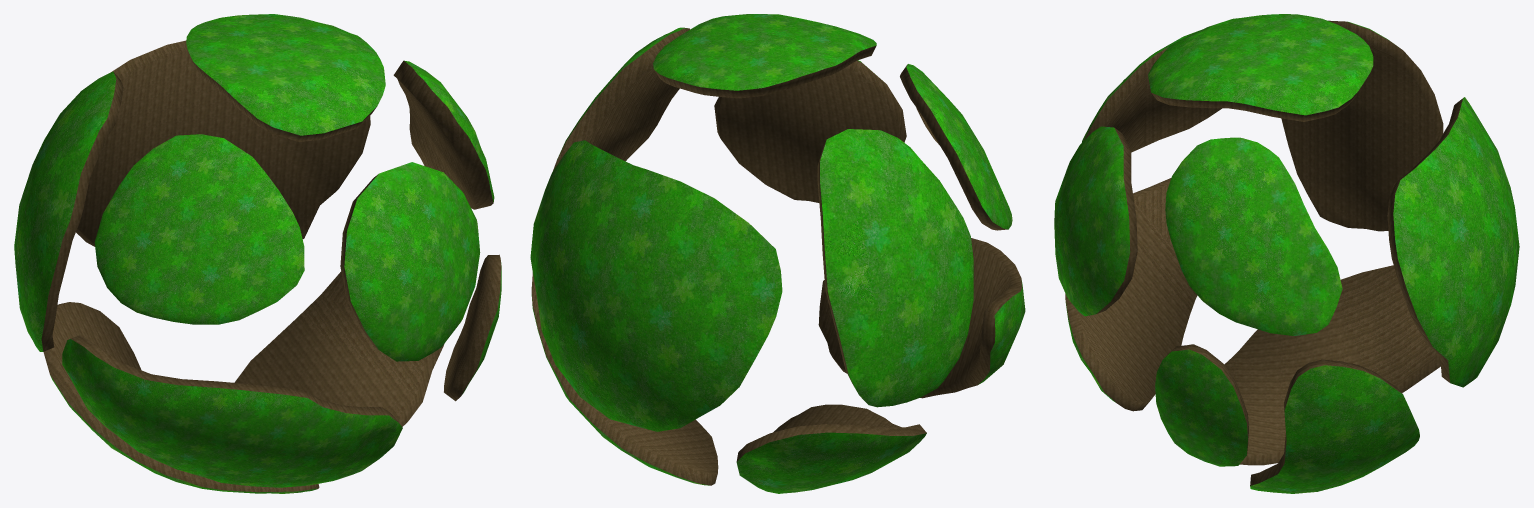
Rendered from HikeGardenBoulderCutPlanet.fbx.
3 renders of one model, left to right at view 1: azimuth 30°, elevation 25°; view 2: azimuth 150°, elevation 25°; view 3: azimuth 270°, elevation 25°, orthographic. The views are drawn at different scales.
Visible parts, largest first — view 1: Sphere.018, Sphere.001; view 2: Sphere.018, Sphere.001; view 3: Sphere.018, Sphere.001.
Boxes of the visible parts, box(x1,y1,x2,y2) form: Sphere.018: box(14, 14, 501, 493); Sphere.001: box(41, 40, 501, 492); Sphere.018: box(530, 14, 1025, 493); Sphere.001: box(531, 28, 1022, 485); Sphere.018: box(1054, 14, 1519, 493); Sphere.001: box(1065, 20, 1462, 485).
Bounding box in the file's own units: 201481 × 196602 × 198333.
2 materials, 2 textured.
